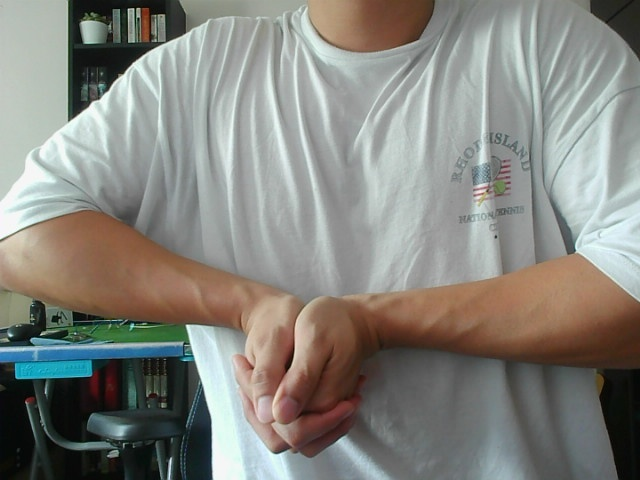Boar: (221, 258, 414, 464)
